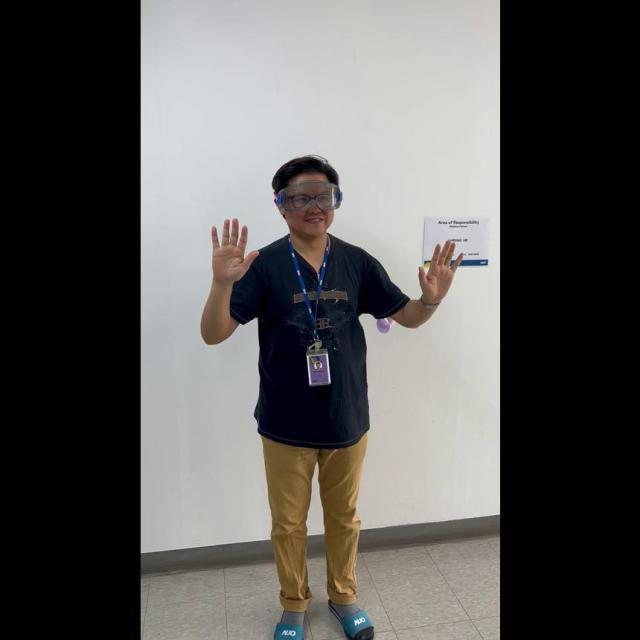bare_hand: (415, 235, 464, 304), (207, 212, 256, 281)
